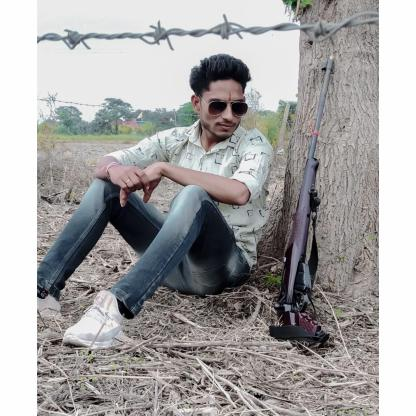rifle: (272, 54, 336, 340)
